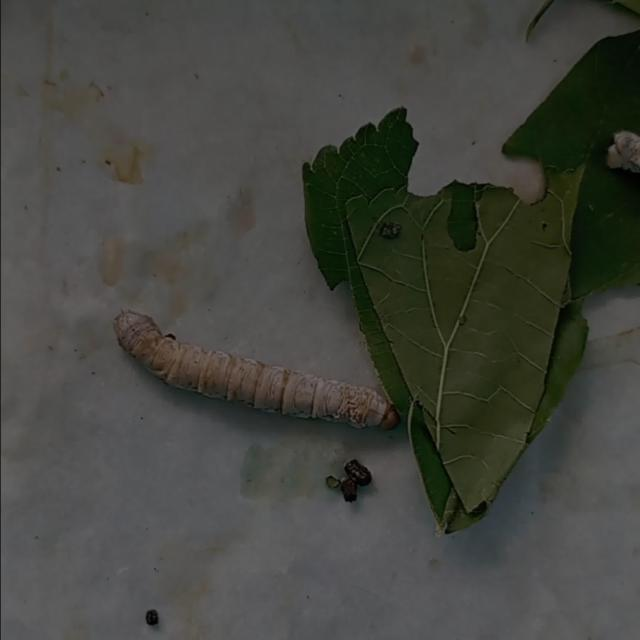Grasserie: (93, 282, 416, 469)
